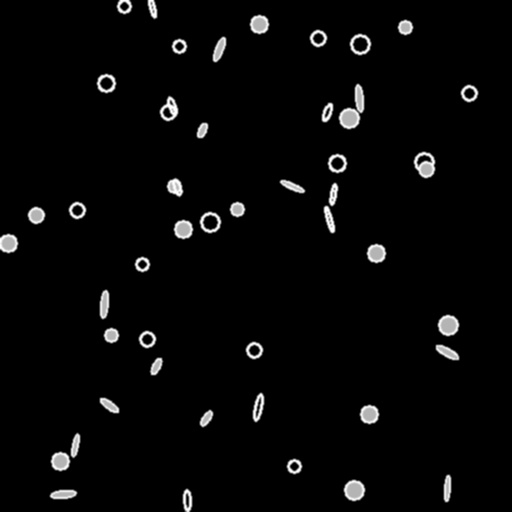pseudomonas: (435, 343, 459, 361), (98, 396, 120, 414), (280, 179, 304, 193), (212, 37, 226, 61), (323, 206, 335, 232), (252, 394, 264, 420), (320, 102, 334, 122), (50, 489, 76, 499), (354, 85, 364, 111), (149, 357, 163, 375), (199, 409, 213, 427), (166, 96, 178, 116), (100, 290, 108, 318), (70, 434, 80, 456), (196, 122, 208, 138), (172, 178, 182, 196), (329, 183, 337, 205), (147, 0, 157, 17), (183, 490, 191, 510), (444, 475, 450, 501)
synechocystis: (201, 213, 219, 231), (345, 481, 363, 499), (415, 153, 433, 171), (439, 316, 457, 334), (351, 35, 369, 53), (340, 109, 358, 127), (368, 245, 384, 261), (52, 453, 68, 469), (0, 235, 16, 251), (175, 221, 191, 237), (329, 155, 345, 171), (251, 16, 267, 32), (98, 75, 114, 91), (361, 406, 377, 422), (462, 86, 476, 100), (311, 31, 325, 45), (161, 105, 175, 119), (70, 203, 84, 217), (419, 162, 433, 176), (247, 343, 261, 357), (29, 208, 43, 222), (140, 332, 154, 346), (136, 258, 148, 270), (173, 40, 185, 52), (105, 329, 117, 341), (231, 203, 243, 215), (168, 180, 180, 192), (118, 0, 130, 12), (399, 21, 411, 33), (288, 460, 300, 472)
